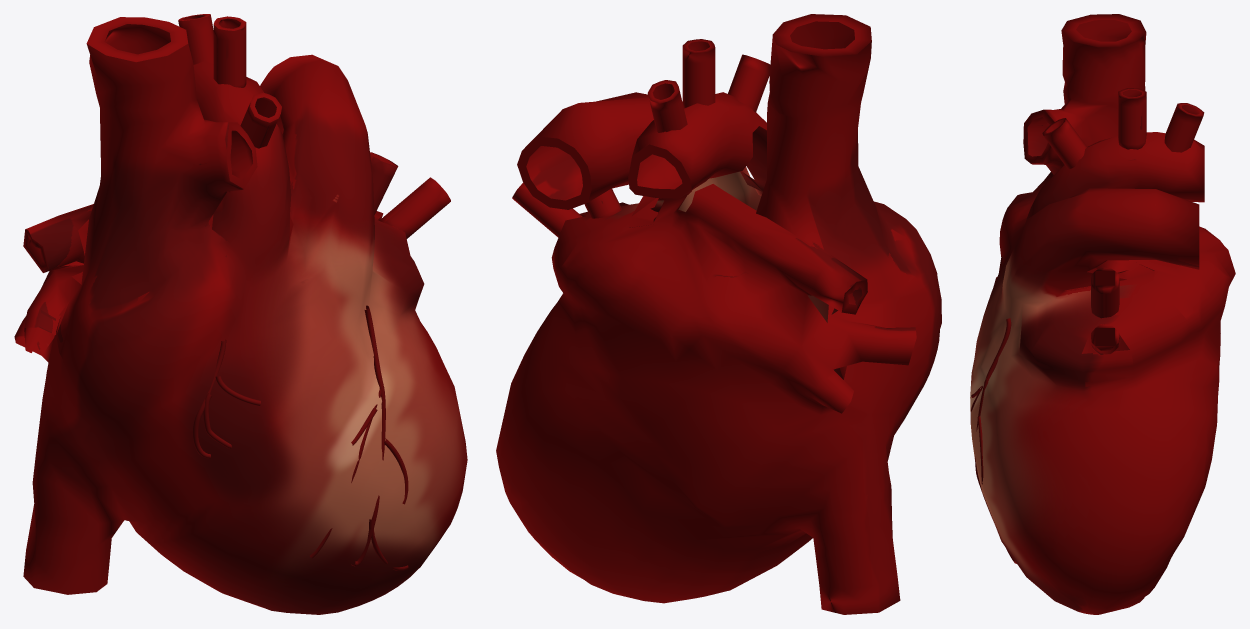
Rendered from YEARTT14.glb.
The picture shows the model from 3 angles, left to right: view 1: azimuth 30°, elevation 25°; view 2: azimuth 150°, elevation 25°; view 3: azimuth 270°, elevation 25°; orthographic projection. The views are drawn at different scales.
Parts seen in each view (by area): view 1: Plane.002; view 2: Plane.002; view 3: Plane.002.
Part boxes in pixels (x1=…): Plane.002: x1=14, y1=14, x2=467, y2=614; Plane.002: x1=496, y1=14, x2=941, y2=614; Plane.002: x1=970, y1=14, x2=1235, y2=614.
Bounding box in the file's own units: 3.4 × 4.77 × 2.3.
2 materials, 1 textured.
